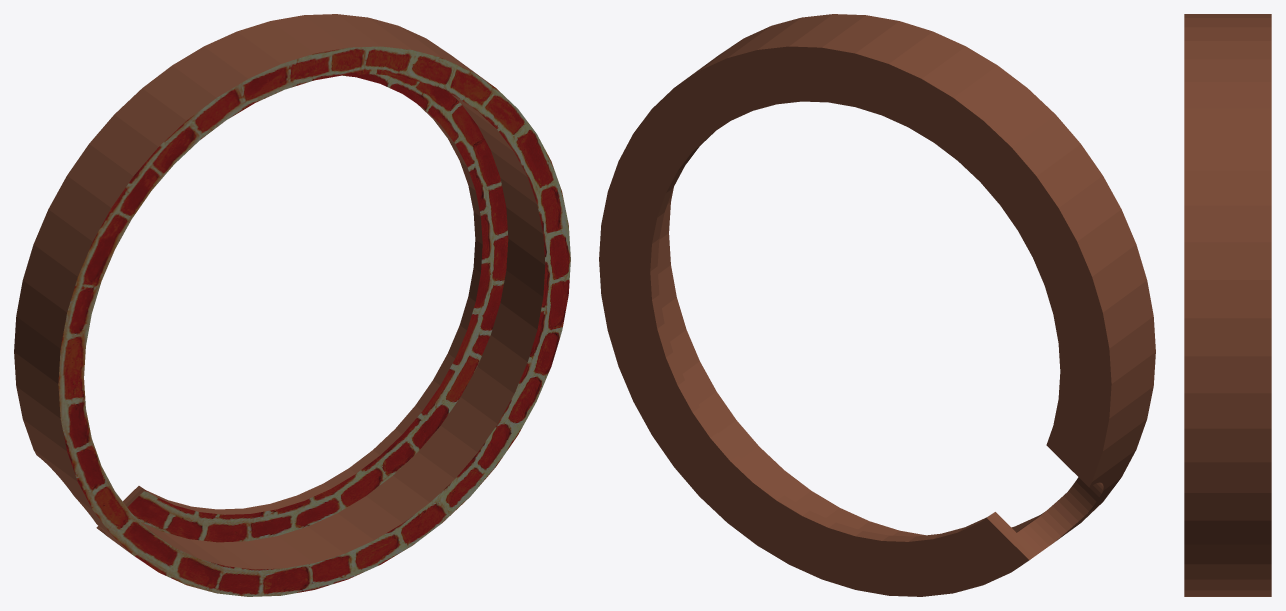
Rendered from pool_041.obj.
3 views of the same model, side by side, from view 1: azimuth 30°, elevation 25°; view 2: azimuth 150°, elevation 25°; view 3: azimuth 270°, elevation 25° (orthographic).
Bounding box in the file's own units: 20 × 20 × 3.
